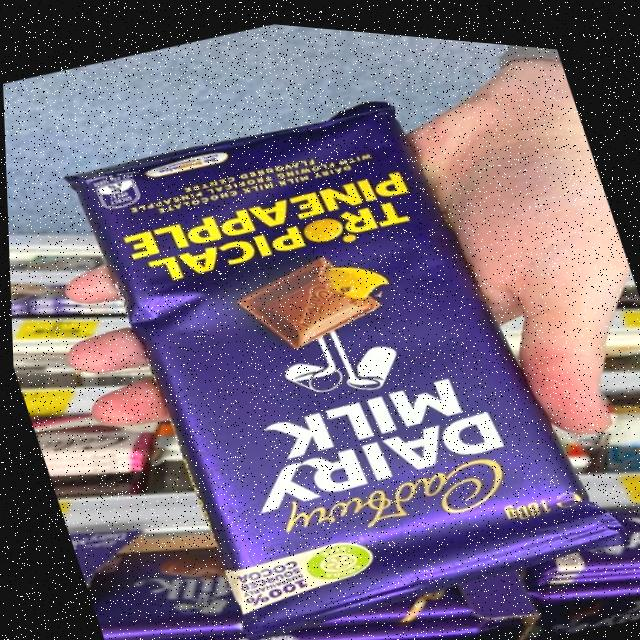cadbury: (56, 51, 617, 640)
